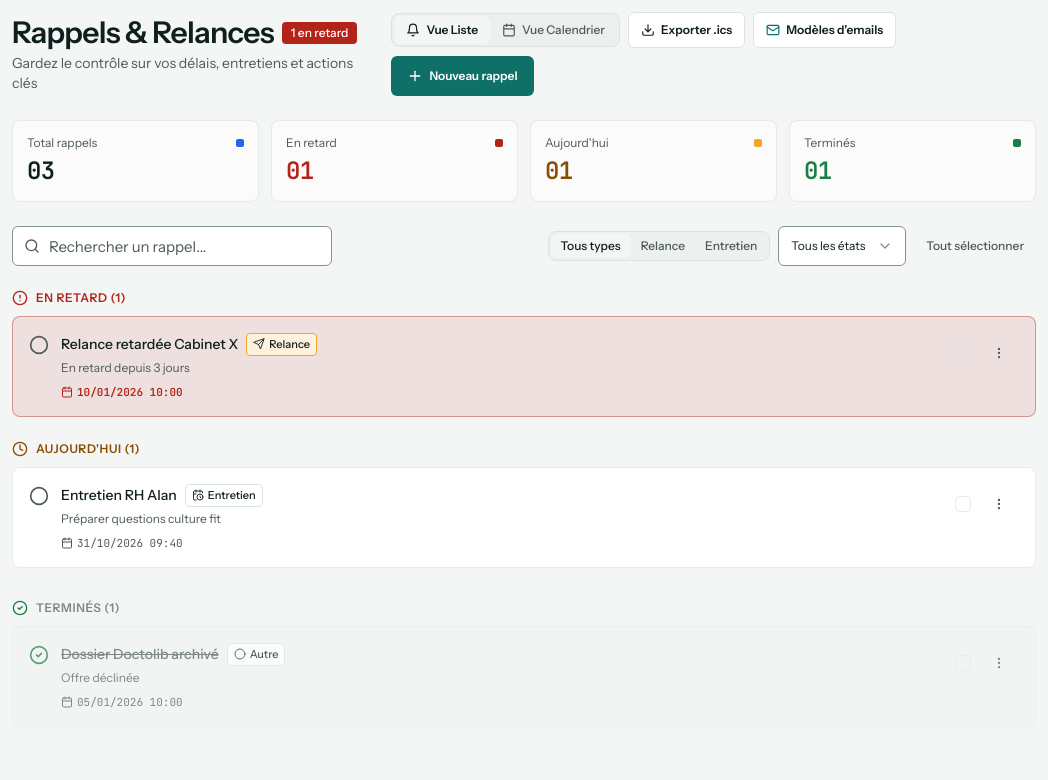
Page: RemindersPage › filters reminders by search query
The image size is (1048, 780).
Expected: the heading "Relance retardée Cabinet X" is shown, [61,335,238,354]
Type "Alan" into the field with placeholder "Rechercher un rappel...".
click(172, 246); type("Alan")  # box [12,226,332,266]
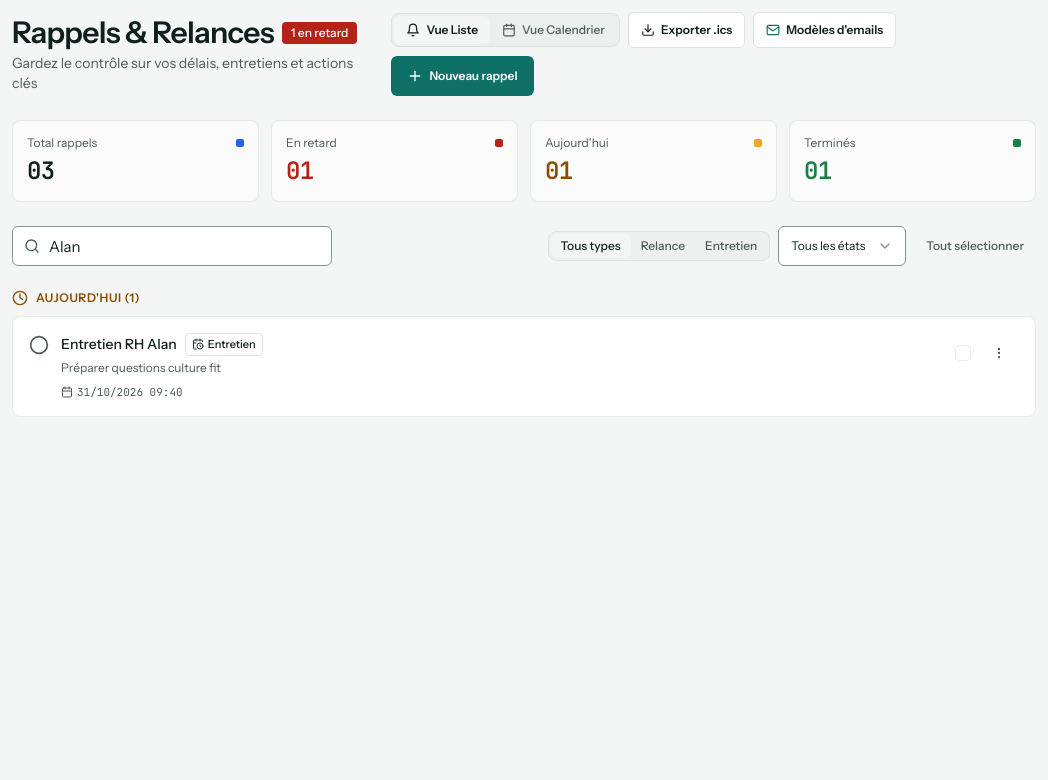
Expected: the heading "Entretien RH Alan" is shown, [61,335,177,354]
Expected: the heading "Relance retardée Cabinet X" is gone
